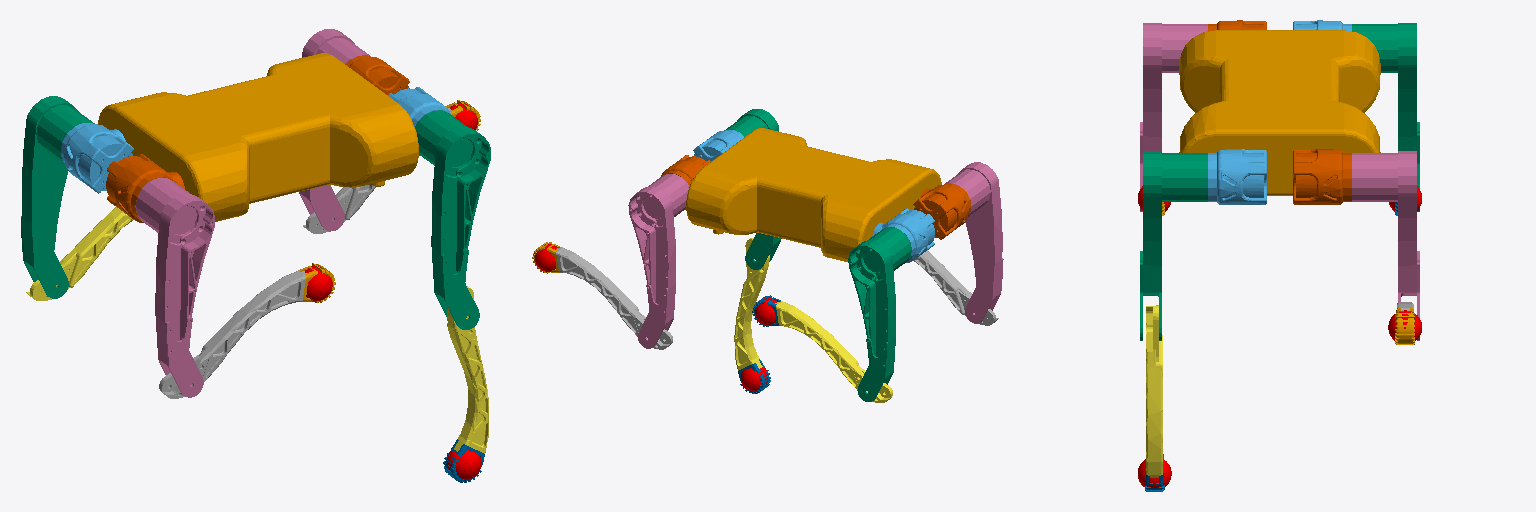
robot.urdf — little_white_v3:
<?xml version='1.0' encoding='utf-8'?>
<robot name="little_white_v3">
  <link name="base_link">
    <inertial>
      <origin xyz="1.0001092e-06 4.3170748e-10 0.0078429831" rpy="0 0 0" />
      <mass value="3.3" />
      <inertia ixx="0.01211084" iyy="0.027347278" izz="0.03565076" ixy="2.8345533e-11" ixz="-2.6856694e-06" iyz="3.4845122e-09" />
    </inertial>
    <visual>
      <origin xyz="0 0 0.008" rpy="0 0 0" />
      <geometry>
        <mesh filename="../meshes/part_001_solid_001.stl" scale="0.001 0.001 0.001" />
      </geometry>
    </visual>
    <collision>
      <origin xyz="0 0 0" rpy="0 0 0" />
      <geometry>
        <box size="0.2845 0.235 0.101" />
      </geometry>
    </collision>
  </link>
  <link name="FR_Hip_link">
    <inertial>
      <origin xyz="0.036273224 0.014080145 -2.972646e-06" rpy="0 0 0" />
      <mass value="0.424" />
      <inertia ixx="0.00024755588" iyy="0.00021990722" izz="0.0002684423" ixy="-1.0583734e-05" ixz="-2.5811646e-09" iyz="-1.9724664e-08" />
    </inertial>
    <visual>
      <origin xyz="-0.14025 0.065 0" rpy="0 0 0" />
      <geometry>
        <mesh filename="../meshes/part_004_solid_004.stl" scale="0.001 0.001 0.001" />
      </geometry>
    </visual>
    <collision>
      <origin xyz="0.04 0.01525 0" rpy="1.57079632679 1.57079632679 0" />
      <geometry>
        <cylinder radius="0.035" length="0.07275" />
      </geometry>
    </collision>
  </link>
  <link name="FR_Thigh_link">
    <inertial>
      <origin xyz="-0.0033482955 -0.0729403 -0.029495593" rpy="0 0 0" />
      <mass value="0.7" />
      <inertia ixx="0.0024317751" iyy="0.0022685167" izz="0.00050485545" ixy="-5.3329632e-05" ixz="-0.00020530383" iyz="-0.00049556145" />
    </inertial>
    <visual>
      <origin xyz="-0.17825 0.0510435 0" rpy="0 0 0" />
      <geometry>
        <mesh filename="../meshes/part_002_solid_002.stl" scale="0.001 0.001 0.001" />
      </geometry>
    </visual>
    <collision>
      <origin xyz="-0.00 -0.075 -0.0" rpy="1.57079632679 0 0" />
      <geometry>
        <cylinder radius="0.035" length="0.075" />
      </geometry>
    </collision>
    <collision>
      <origin
        xyz="-0.016 -0.1 -0.11"
        rpy="0 0.15 0"/>
      <geometry>
        <box size="0.04 0.025 0.16"/>
      </geometry>
    </collision>
  </link>
  <link name="FR_Calf_link">
    <inertial>
      <origin xyz="0.011984502 0.01490326 -0.084211679" rpy="0 0 0" />
      <mass value="0.04" />
      <inertia ixx="0.00014578378" iyy="0.00014981734" izz="5.852173e-06" ixy="-2.2549575e-07" ixz="1.6078151e-05" iyz="1.1669578e-06" />
    </inertial>
    <visual>
      <origin xyz="-0.17693969 0.161877 0.19482217" rpy="0 0 0" />
      <geometry>
        <mesh filename="../meshes/part_003_solid_003.stl" scale="0.001 0.001 0.001" />
      </geometry>
    </visual>
    <collision>
      <origin
        xyz="0.008 0.012 -0.08"
        rpy="0 -0.2 0"/>
      <geometry>
        <box size="0.02 0.03 0.16"/>
      </geometry>
    </collision>
  </link>
  <link name="FR_Foot_link">
    <inertial>
      <origin xyz="0.18085106 -0.14645474 -0.38077391" rpy="0 0 0" />
      <mass value="0.01" />
      <inertia ixx="1.6470756e-06" iyy="2.3916099e-06" izz="1.6122098e-06" ixy="-1.0697433e-09" ixz="3.3247996e-08" iyz="-3.2385362e-09" />
    </inertial>
    <visual>
      <origin xyz="0 0 0" rpy="0 0 0" />
      <geometry>
        <mesh filename="../meshes/part_005_solid_005.stl" scale="0.001 0.001 0.001" />
      </geometry>
    </visual>
    <!-- Red marker showing the simplified spherical foot contact geometry. -->
    <visual>
      <origin xyz="0.18085106 -0.14645474 -0.38077391" rpy="0 0 0" />
      <geometry>
        <sphere radius="0.02" />
      </geometry>
      <material name="FR_foot_contact_red">
        <color rgba="1 0 0 1" />
      </material>
    </visual>
    <collision>
      <origin xyz="0.18085106 -0.14645474 -0.38077391" rpy="0 0 0" />
      <geometry>
        <sphere radius="0.02" />
      </geometry>
    </collision>
  </link>
  <link name="FL_Hip_link">
    <inertial>
      <origin xyz="0.03627342 -0.014080067 -1.8343334e-06" rpy="0 0 0" />
      <mass value="0.424" />
      <inertia ixx="0.00024755671" iyy="0.00021990565" izz="0.00026844156" ixy="1.0584927e-05" ixz="-9.5446832e-09" iyz="1.203773e-08" />
    </inertial>
    <visual>
      <origin xyz="-0.14025 -0.065000002 1.01e-09" rpy="0 0 0" />
      <geometry>
        <mesh filename="../meshes/part_012_solid_012.stl" scale="0.001 0.001 0.001" />
      </geometry>
    </visual>
    <collision>
      <origin xyz="0.04 -0.01525 0" rpy="1.57079632679 1.57079632679 0" />
      <geometry>
        <cylinder radius="0.035" length="0.07275" />
      </geometry>
    </collision>
  </link>
  <link name="FL_Thigh_link">
    <inertial>
      <origin xyz="-0.0033483429 0.073982221 -0.029495544" rpy="0 0 0" />
      <mass value="0.7" />
      <inertia ixx="0.0024317776" iyy="0.0022685204" izz="0.00050485672" ixy="5.3330335e-05" ixz="-0.000205303" iyz="0.0004955611" />
    </inertial>
    <visual>
      <origin xyz="-0.17825 -0.050001567 0" rpy="0 0 0" />
      <geometry>
        <mesh filename="../meshes/part_010_solid_010.stl" scale="0.001 0.001 0.001" />
      </geometry>
    </visual>
    <collision>
      <origin xyz="0 0.075 0" rpy="1.57079632679 0 0" />
      <geometry>
        <cylinder radius="0.035" length="0.075" />
      </geometry>
    </collision>
    <collision>
      <origin xyz="-0.016 0.1 -0.11" rpy="0 0.15 0" />
      <geometry>
        <box size="0.04 0.025 0.16" />
      </geometry>
    </collision>
  </link>
  <link name="FL_Calf_link">
    <inertial>
      <origin xyz="0.011984508 -0.014903264 -0.084211673" rpy="0 0 0" />
      <mass value="0.04" />
      <inertia ixx="0.00014578371" iyy="0.00014981726" izz="5.8521732e-06" ixy="2.2549736e-07" ixz="1.607814e-05" iyz="-1.1669558e-06" />
    </inertial>
    <visual>
      <origin xyz="-0.17693969 -0.161877 0.19482217" rpy="0 0 0" />
      <geometry>
        <mesh filename="../meshes/part_011_solid_011.stl" scale="0.001 0.001 0.001" />
      </geometry>
    </visual>
    <collision>
      <origin xyz="0.008 -0.012 -0.08" rpy="0 -0.2 0" />
      <geometry>
        <box size="0.02 0.03 0.16" />
      </geometry>
    </collision>
  </link>
  <link name="FL_Foot_link">
    <inertial>
      <origin xyz="0.18085106 0.14645474 -0.38077391" rpy="0 0 0" />
      <mass value="0.01" />
      <inertia ixx="1.6470756e-06" iyy="2.3916099e-06" izz="1.6122098e-06" ixy="1.06974e-09" ixz="3.3247995e-08" iyz="3.2385376e-09" />
    </inertial>
    <visual>
      <origin xyz="0 0 0" rpy="0 0 0" />
      <geometry>
        <mesh filename="../meshes/part_013_solid_013.stl" scale="0.001 0.001 0.001" />
      </geometry>
    </visual>
    <!-- Red marker showing the simplified spherical foot contact geometry. -->
    <visual>
      <origin xyz="0.18085106 0.14645474 -0.38077391" rpy="0 0 0" />
      <geometry>
        <sphere radius="0.02" />
      </geometry>
      <material name="FL_foot_contact_red">
        <color rgba="1 0 0 1" />
      </material>
    </visual>
    <collision>
      <origin xyz="0.18085106 0.14645474 -0.38077391" rpy="0 0 0" />
      <geometry>
        <sphere radius="0.02" />
      </geometry>
    </collision>
  </link>
  <link name="RL_Hip_link">
    <inertial>
      <origin xyz="-0.03427342 -0.014080067 1.8363604e-06" rpy="0 0 0" />
      <mass value="0.424" />
      <inertia ixx="0.00024755671" iyy="0.00021990565" izz="0.00026844156" ixy="-1.0584927e-05" ixz="-9.5446846e-09" iyz="-1.2037681e-08" />
    </inertial>
    <visual>
      <origin xyz="0.14225 -0.065000002 1.01e-09" rpy="0 0 0" />
      <geometry>
        <mesh filename="../meshes/part_016_solid_016.stl" scale="0.001 0.001 0.001" />
      </geometry>
    </visual>
    <collision>
      <origin xyz="-0.04 -0.01525 0" rpy="1.57079632679 1.57079632679 0" />
      <geometry>
        <cylinder radius="0.035" length="0.07275" />
      </geometry>
    </collision>
  </link>
  <link name="RL_Thigh_link">
    <inertial>
      <origin xyz="-0.0033813806 0.072940294 -0.029495514" rpy="0 0 0" />
      <mass value="0.7" />
      <inertia ixx="0.0024317759" iyy="0.0022692541" izz="0.00050559189" ixy="5.2424098e-05" ixz="-0.00020665744" iyz="0.00049556144" />
    </inertial>
    <visual>
      <origin xyz="0.17825 -0.0510435 0" rpy="0 0 0" />
      <geometry>
        <mesh filename="../meshes/part_014_solid_014.stl" scale="0.001 0.001 0.001" />
      </geometry>
    </visual>
    <collision>
      <origin xyz="0 0.075 0" rpy="1.57079632679 0 0" />
      <geometry>
        <cylinder radius="0.035" length="0.075" />
      </geometry>
    </collision>
    <collision>
      <origin xyz="-0.016 0.1 -0.11" rpy="0 0.15 0" />
      <geometry>
        <box size="0.04 0.025 0.16" />
      </geometry>
    </collision>
  </link>
  <link name="RL_Calf_link">
    <inertial>
      <origin xyz="0.011983461 -0.01490346 -0.084211094" rpy="0 0 0" />
      <mass value="0.04" />
      <inertia ixx="0.0001457862" iyy="0.00014981971" izz="5.8530389e-06" ixy="2.2299618e-07" ixz="1.6083936e-05" iyz="-1.1658481e-06" />
    </inertial>
    <visual>
      <origin xyz="0.17956031 -0.161877 0.19482217" rpy="0 0 0" />
      <geometry>
        <mesh filename="../meshes/part_015_solid_015.stl" scale="0.001 0.001 0.001" />
      </geometry>
    </visual>
    <collision>
      <origin xyz="0.008 -0.012 -0.08" rpy="0 -0.2 0" />
      <geometry>
        <box size="0.02 0.03 0.16" />
      </geometry>
    </collision>
  </link>
  <link name="RL_Foot_link">
    <inertial>
      <origin xyz="-0.17564894 0.14645474 -0.38077391" rpy="0 0 0" />
      <mass value="0.01" />
      <inertia ixx="1.6470756e-06" iyy="2.3916099e-06" izz="1.6122098e-06" ixy="1.06974e-09" ixz="3.3247995e-08" iyz="3.2385377e-09" />
    </inertial>
    <visual>
      <origin xyz="0 0 0" rpy="0 0 0" />
      <geometry>
        <mesh filename="../meshes/part_017_solid_017.stl" scale="0.001 0.001 0.001" />
      </geometry>
    </visual>
    <!-- Red marker showing the simplified spherical foot contact geometry. -->
    <visual>
      <origin xyz="-0.17564894 0.14645474 -0.38077391" rpy="0 0 0" />
      <geometry>
        <sphere radius="0.02" />
      </geometry>
      <material name="RL_foot_contact_red">
        <color rgba="1 0 0 1" />
      </material>
    </visual>
    <collision>
      <origin xyz="-0.17564894 0.14645474 -0.38077391" rpy="0 0 0" />
      <geometry>
        <sphere radius="0.02" />
      </geometry>
    </collision>
  </link>
  <link name="RR_Hip_link">
    <inertial>
      <origin xyz="-0.036273224 0.014080145 2.9726575e-06" rpy="0 0 0" />
      <mass value="0.424" />
      <inertia ixx="0.00024755588" iyy="0.00021990722" izz="0.0002684423" ixy="1.0583734e-05" ixz="-2.5811548e-09" iyz="1.9724653e-08" />
    </inertial>
    <visual>
      <origin xyz="0.14025 0.065 0" rpy="0 0 0" />
      <geometry>
        <mesh filename="../meshes/part_008_solid_008.stl" scale="0.001 0.001 0.001" />
      </geometry>
    </visual>
    <collision>
      <origin xyz="-0.04 0.01525 0" rpy="1.57079632679 1.57079632679 0" />
      <geometry>
        <cylinder radius="0.035" length="0.07275" />
      </geometry>
    </collision>
  </link>
  <link name="RR_Thigh_link">
    <inertial>
      <origin xyz="-0.0033813331 -0.073982239 -0.029495563" rpy="0 0 0" />
      <mass value="0.7" />
      <inertia ixx="0.0024317734" iyy="0.0022692504" izz="0.00050559062" ixy="-5.2423395e-05" ixz="-0.00020665827" iyz="-0.00049556179" />
    </inertial>
    <visual>
      <origin xyz="0.17825 0.050001567 0" rpy="0 0 0" />
      <geometry>
        <mesh filename="../meshes/part_006_solid_006.stl" scale="0.001 0.001 0.001" />
      </geometry>
    </visual>
    <collision>
      <origin xyz="0 -0.075 0" rpy="1.57079632679 0 0" />
      <geometry>
        <cylinder radius="0.035" length="0.075" />
      </geometry>
    </collision>
    <collision>
      <origin xyz="-0.016 -0.1 -0.11" rpy="0 0.15 0" />
      <geometry>
        <box size="0.04 0.025 0.16" />
      </geometry>
    </collision>
  </link>
  <link name="RR_Calf_link">
    <inertial>
      <origin xyz="0.011991993 -0.0071365441 -0.084211157" rpy="0 0 0" />
      <mass value="0.04" />
      <inertia ixx="0.00014578627" iyy="0.00014981979" izz="5.8530387e-06" ixy="-2.2299456e-07" ixz="1.6083947e-05" iyz="1.1658501e-06" />
    </inertial>
    <visual>
      <origin xyz="0.17956885 0.139837 0.19482211" rpy="0 0 0" />
      <geometry>
        <mesh filename="../meshes/part_007_solid_007.stl" scale="0.001 0.001 0.001" />
      </geometry>
    </visual>
    <collision>
      <origin xyz="0.008 -0.012 -0.08" rpy="0 -0.2 0" />
      <geometry>
        <box size="0.02 0.03 0.16" />
      </geometry>
    </collision>
  </link>
  <link name="RR_Foot_link">
    <inertial>
      <origin xyz="-0.17564894 -0.14645474 -0.38077391" rpy="0 0 0" />
      <mass value="0.01" />
      <inertia ixx="1.6470756e-06" iyy="2.3916099e-06" izz="1.6122098e-06" ixy="-1.0697433e-09" ixz="3.3247996e-08" iyz="-3.2385362e-09" />
    </inertial>
    <visual>
      <origin xyz="0 0 0" rpy="0 0 0" />
      <geometry>
        <mesh filename="../meshes/part_009_solid_009.stl" scale="0.001 0.001 0.001" />
      </geometry>
    </visual>
    <!-- Red marker showing the simplified spherical foot contact geometry. -->
    <visual>
      <origin xyz="-0.17564894 -0.14645474 -0.38077391" rpy="0 0 0" />
      <geometry>
        <sphere radius="0.02" />
      </geometry>
      <material name="RR_foot_contact_red">
        <color rgba="1 0 0 1" />
      </material>
    </visual>
    <collision>
      <origin xyz="-0.17564894 -0.14645474 -0.38077391" rpy="0 0 0" />
      <geometry>
        <sphere radius="0.02" />
      </geometry>
    </collision>
  </link>
  <joint name="FR_hip_joint" type="revolute">
    <origin xyz="0.14025 -0.065 0.008" rpy="0 0 0" />
    <parent link="base_link" />
    <child link="FR_Hip_link" />
    <axis xyz="1 0 0" />
    <limit lower="-1.0472" upper="1.0472" effort="27" velocity="10" />
  </joint>
  <joint name="FR_thigh_joint" type="revolute">
    <origin xyz="0.038 0.0139565 0" rpy="0 0 0" />
    <parent link="FR_Hip_link" />
    <child link="FR_Thigh_link" />
    <axis xyz="0 1 0" />
    <limit lower="-1.5708" upper="1.5708" effort="27" velocity="10" />
  </joint>
  <joint name="FR_calf_joint" type="revolute">
    <origin xyz="-0.0013103131 -0.1108335 -0.19482217" rpy="0 0 0" />
    <parent link="FR_Thigh_link" />
    <child link="FR_Calf_link" />
    <axis xyz="0 1 0" />
    <limit lower="-2.78" upper="0" effort="27" velocity="10" />
  </joint>
  <joint name="FR_foot_joint" type="fixed">
    <origin xyz="-0.17693969 0.161877 0.19482217" rpy="0 0 0" />
    <parent link="FR_Calf_link" />
    <child link="FR_Foot_link" />
  </joint>
  <joint name="FL_hip_joint" type="revolute">
    <origin xyz="0.14025 0.065000002 0.007999999" rpy="0 0 0" />
    <parent link="base_link" />
    <child link="FL_Hip_link" />
    <axis xyz="1 0 0" />
    <limit lower="-1" upper="1" effort="27" velocity="10" />
  </joint>
  <joint name="FL_thigh_joint" type="revolute">
    <origin xyz="0.038 -0.014998435 1.01e-09" rpy="0 0 0" />
    <parent link="FL_Hip_link" />
    <child link="FL_Thigh_link" />
    <axis xyz="0 1 0" />
    <limit lower="0" upper="1.8" effort="27" velocity="10" />
  </joint>
  <joint name="FL_calf_joint" type="revolute">
    <origin xyz="-0.0013103131 0.11187543 -0.19482217" rpy="0 0 0" />
    <parent link="FL_Thigh_link" />
    <child link="FL_Calf_link" />
    <axis xyz="0 1 0" />
    <limit lower="-2.78" upper="-1.2" effort="27" velocity="10" />
  </joint>
  <joint name="FL_foot_joint" type="fixed">
    <origin xyz="-0.17693969 -0.161877 0.19482217" rpy="0 0 0" />
    <parent link="FL_Calf_link" />
    <child link="FL_Foot_link" />
  </joint>
  <joint name="RL_hip_joint" type="revolute">
    <origin xyz="-0.14225 0.065000002 0.007999999" rpy="0 0 0" />
    <parent link="base_link" />
    <child link="RL_Hip_link" />
    <axis xyz="1 0 0" />
    <limit lower="-1" upper="1" effort="27" velocity="10" />
  </joint>
  <joint name="RL_thigh_joint" type="revolute">
    <origin xyz="-0.036 -0.013956502 1.01e-09" rpy="0 0 0" />
    <parent link="RL_Hip_link" />
    <child link="RL_Thigh_link" />
    <axis xyz="0 1 0" />
    <limit lower="0" upper="1.8" effort="10" velocity="5" />
  </joint>
  <joint name="RL_calf_joint" type="revolute">
    <origin xyz="-0.0013103131 0.1108335 -0.19482217" rpy="0 0 0" />
    <parent link="RL_Thigh_link" />
    <child link="RL_Calf_link" />
    <axis xyz="0 1 0" />
    <limit lower="-2.78" upper="-1.2" effort="27" velocity="10" />
  </joint>
  <joint name="RL_foot_joint" type="fixed">
    <origin xyz="0.17956031 -0.161877 0.19482217" rpy="0 0 0" />
    <parent link="RL_Calf_link" />
    <child link="RL_Foot_link" />
  </joint>
  <joint name="RR_hip_joint" type="revolute">
    <origin xyz="-0.14025 -0.065 0.008" rpy="0 0 0" />
    <parent link="base_link" />
    <child link="RR_Hip_link" />
    <axis xyz="1 0 0" />
    <limit lower="-1" upper="1" effort="27" velocity="10" />
  </joint>
  <joint name="RR_thigh_joint" type="revolute">
    <origin xyz="-0.038 0.014998433 0" rpy="0 0 0" />
    <parent link="RR_Hip_link" />
    <child link="RR_Thigh_link" />
    <axis xyz="0 1 0" />
    <limit lower="0" upper="1.8" effort="27" velocity="10" />
  </joint>
  <joint name="RR_calf_joint" type="revolute">
    <origin xyz="-0.0013188508 -0.089835433 -0.19482211" rpy="0 0 0" />
    <parent link="RR_Thigh_link" />
    <child link="RR_Calf_link" />
    <axis xyz="0 1 0" />
    <limit lower="-2.78" upper="-1.2" effort="27" velocity="10" />
  </joint>
  <joint name="RR_foot_joint" type="fixed">
    <origin xyz="0.17956885 0.139837 0.19482211" rpy="0 0 0" />
    <parent link="RR_Calf_link" />
    <child link="RR_Foot_link" />
  </joint>
</robot>

--- Facts derived from the render (not from the file) ---
Views: 3 orthographic renders of the robot side by side, from view 1: azimuth 30°, elevation 25°; view 2: azimuth 150°, elevation 25°; view 3: azimuth 270°, elevation 25°.
Robot: little_white_v3 — 17 links, 16 joints (12 revolute, 4 fixed); root link base_link; default pose: all joints at 0 but 3 set to mid-range because 0 is outside their limits (FL_calf_joint = -1.99, RL_calf_joint = -1.99, RR_calf_joint = -1.99).
Links seen in each view (by area): view 1: base_link, RR_Thigh_link, FR_Thigh_link, RL_Thigh_link, RR_Calf_link, RL_Hip_link, FR_Calf_link, FL_Thigh_link, RR_Hip_link, RL_Calf_link, FL_Hip_link, FR_Foot_link (+4 smaller); view 2: base_link, RL_Thigh_link, FL_Thigh_link, RR_Thigh_link, FL_Calf_link, RL_Calf_link, RR_Hip_link, FR_Calf_link, FR_Thigh_link, RL_Hip_link, RR_Calf_link, FR_Hip_link (+4 smaller); view 3: base_link, FR_Thigh_link, FL_Thigh_link, RL_Thigh_link, RR_Thigh_link, FR_Hip_link, FL_Hip_link, FR_Calf_link, FL_Foot_link, FR_Foot_link.
Boxes of the visible links, <box> form: base_link: <box>98,53,418,221</box>; RR_Thigh_link: <box>136,178,214,397</box>; FR_Thigh_link: <box>415,110,490,329</box>; RL_Thigh_link: <box>21,96,94,298</box>; RR_Calf_link: <box>159,270,306,398</box>; RL_Hip_link: <box>61,123,133,193</box>; FR_Calf_link: <box>447,286,488,453</box>; FL_Thigh_link: <box>299,29,370,231</box>; RR_Hip_link: <box>106,154,184,222</box>; RL_Calf_link: <box>26,207,133,300</box>; FL_Hip_link: <box>345,55,409,94</box>; FR_Foot_link: <box>443,439,484,482</box>; base_link: <box>686,128,941,261</box>; RL_Thigh_link: <box>848,227,911,401</box>; FL_Thigh_link: <box>628,174,688,348</box>; RR_Thigh_link: <box>945,162,1003,323</box>; FL_Calf_link: <box>556,247,672,349</box>; RL_Calf_link: <box>775,301,892,402</box>; RR_Hip_link: <box>913,183,971,239</box>; FR_Calf_link: <box>734,238,769,370</box>; FR_Thigh_link: <box>724,109,781,269</box>; RL_Hip_link: <box>872,208,934,262</box>; RR_Calf_link: <box>913,250,998,325</box>; FR_Hip_link: <box>693,130,743,160</box>; base_link: <box>1179,30,1380,195</box>; FR_Thigh_link: <box>1140,151,1207,340</box>; FL_Thigh_link: <box>1352,151,1419,340</box>; RL_Thigh_link: <box>1352,23,1419,211</box>; RR_Thigh_link: <box>1140,23,1207,211</box>; FR_Hip_link: <box>1208,149,1266,204</box>; FL_Hip_link: <box>1293,149,1351,204</box>; FR_Calf_link: <box>1146,305,1162,477</box>; FL_Foot_link: <box>1388,308,1421,344</box>; FR_Foot_link: <box>1138,454,1171,491</box>.
Bounding box of the posed robot: 0.5794 × 0.3329 × 0.4442 m (x, y, z).
Meshes: 17 distinct files referenced, 17 mesh visuals loaded (17 binary STL).
